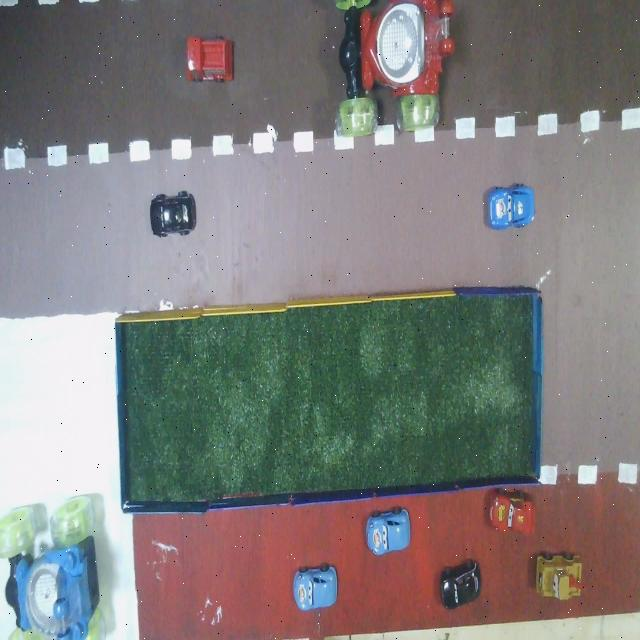driver car f: (0, 495, 105, 639)
small cars: (488, 184, 534, 230), (150, 191, 196, 237), (187, 37, 233, 82), (366, 508, 410, 555), (490, 489, 534, 534), (441, 560, 481, 609), (294, 565, 337, 610)
